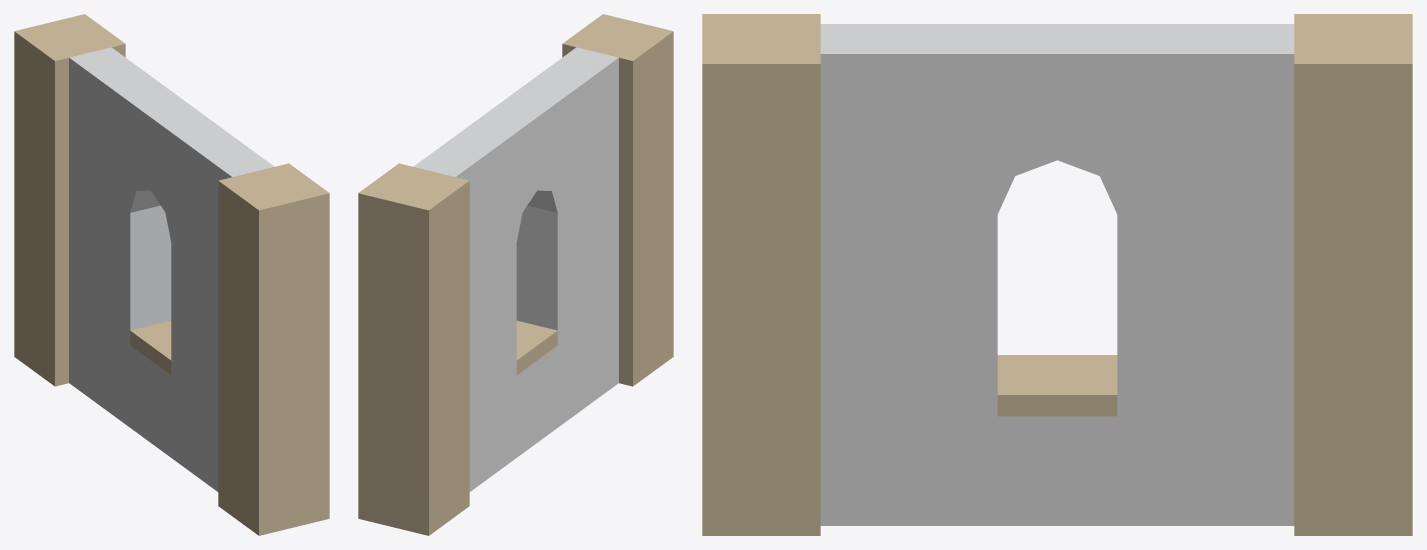
The model's file is Wood_Window_Round_Sill_01.glb.
3 views of the same model, side by side, from view 1: azimuth 30°, elevation 25°; view 2: azimuth 150°, elevation 25°; view 3: azimuth 270°, elevation 25° (orthographic). The views are drawn at different scales.
Parts seen in each view (by area): view 1: Wood_Window_Round_Sill_01; view 2: Wood_Window_Round_Sill_01; view 3: Wood_Window_Round_Sill_01.
Part boxes in pixels (x1,y1,x2,y2): Wood_Window_Round_Sill_01: (14,14,329,535); Wood_Window_Round_Sill_01: (358,14,673,535); Wood_Window_Round_Sill_01: (702,14,1412,535).
Size of the model in its own units: 0.5001 by 2.2 by 3.
